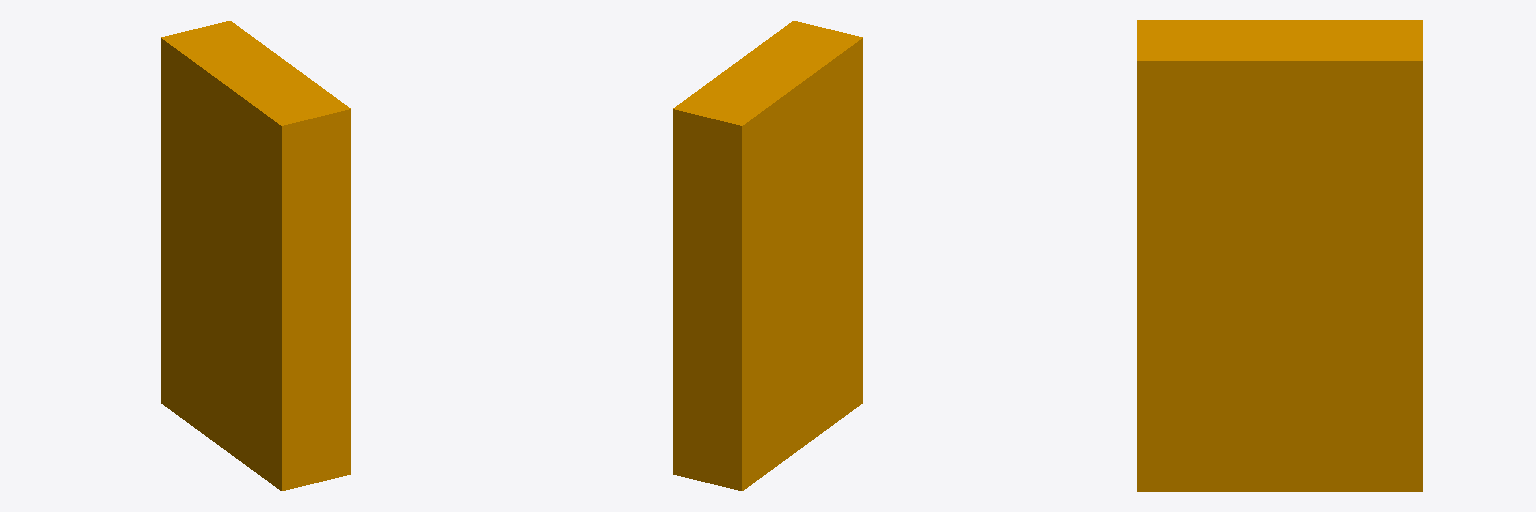
robot.urdf — t:
<?xml version="1.0" ?>
<!-- =================================================================================== -->
<!-- |    This document was autogenerated by xacro from t17_dict_list.xacro            | -->
<!-- |    EDITING THIS FILE BY HAND IS NOT RECOMMENDED                                 | -->
<!-- =================================================================================== -->
<robot name="t">
  <link name="l">
    <visual>
      <geometry>
        <box size="0.2 0.6 1"/>
      </geometry>
    </visual>
  </link>
</robot>

--- Facts derived from the render (not from the file) ---
Views: 3 orthographic renders of the robot side by side, from view 1: azimuth 30°, elevation 25°; view 2: azimuth 150°, elevation 25°; view 3: azimuth 270°, elevation 25°.
Robot: t — 1 links, 0 joints (none); root link l; default pose: all joints at 0.
Visible links, largest first — view 1: l; view 2: l; view 3: l.
Link boxes in pixels (x1,y1,x2,y2): l: (161,21,350,490); l: (673,21,862,490); l: (1137,20,1422,491).
Bounding box of the posed robot: 0.2 × 0.6 × 1 m (x, y, z).
Geometry: primitives only (box / cylinder / sphere), no mesh files.
